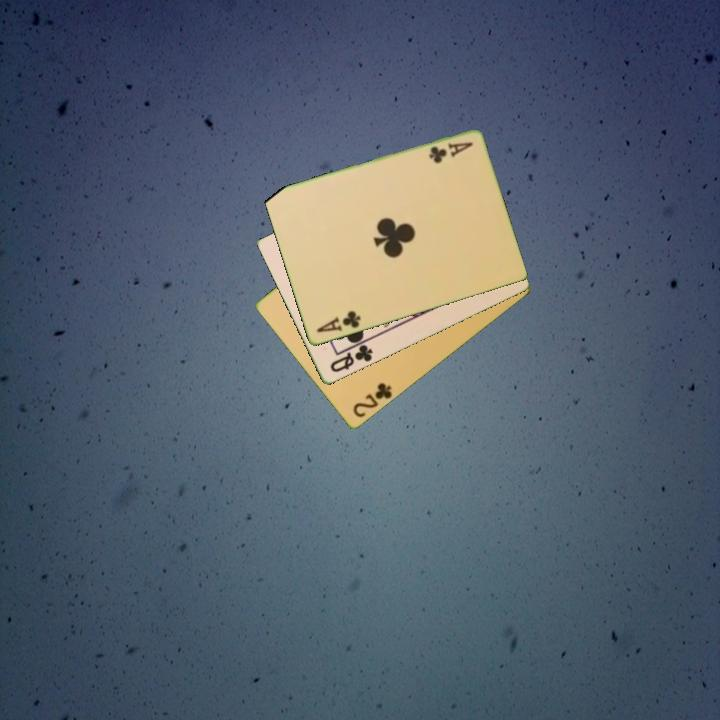2c: (349, 379, 395, 421)
Ac: (313, 308, 363, 336), (425, 139, 476, 166)
Qc: (326, 337, 376, 376)
